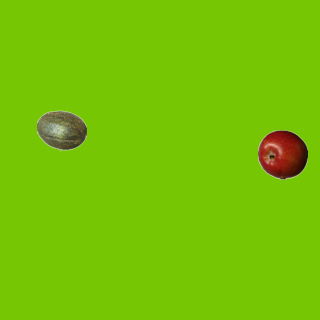Apple Braeburn: (257, 129, 307, 179)
Melon Piel de Sapo: (36, 105, 86, 155)
